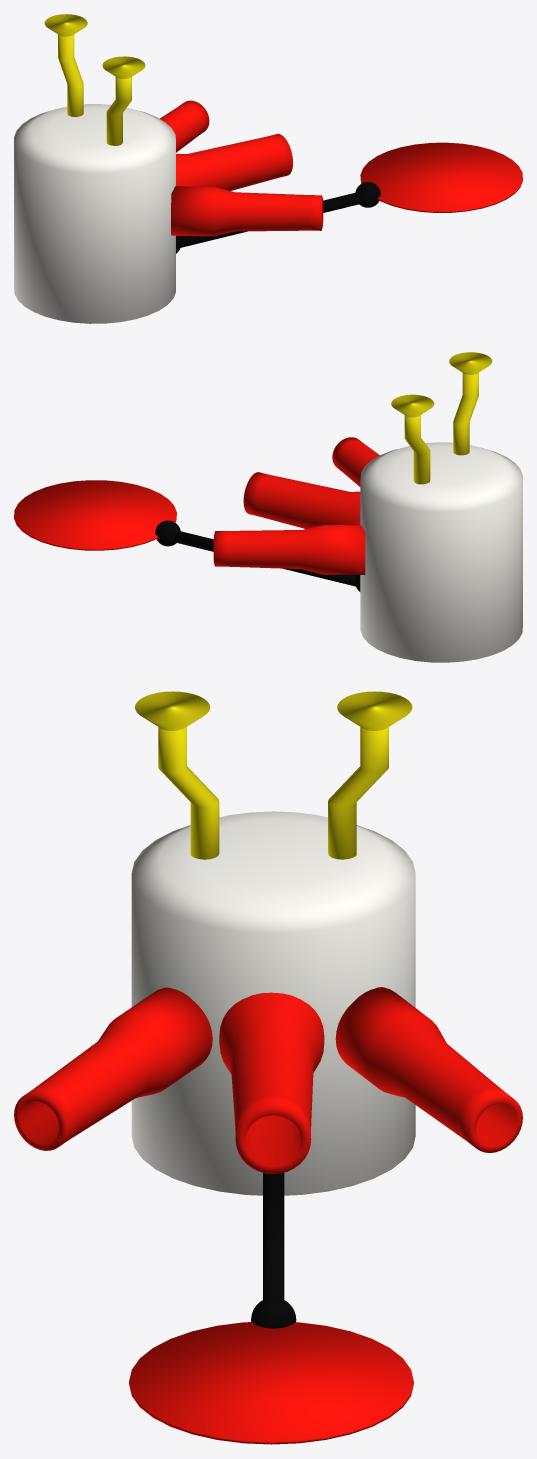
File: BoostJuice.fbx
3 views of the same model, one above another, from view 1: azimuth 30°, elevation 25°; view 2: azimuth 150°, elevation 25°; view 3: azimuth 270°, elevation 25° (orthographic). The views are drawn at different scales.
Visible parts, largest first — view 1: Cylinder.001, Circle; view 2: Cylinder.001, Circle; view 3: Cylinder.001, Circle.
Boxes of the visible parts, bbox=[...] form: Cylinder.001: bbox=[14, 14, 323, 323]; Circle: bbox=[176, 142, 522, 253]; Cylinder.001: bbox=[213, 352, 522, 662]; Circle: bbox=[14, 480, 360, 591]; Cylinder.001: bbox=[14, 691, 522, 1195]; Circle: bbox=[129, 1172, 413, 1444].
Size of the model in its own units: 2216 by 1116 by 1147.
